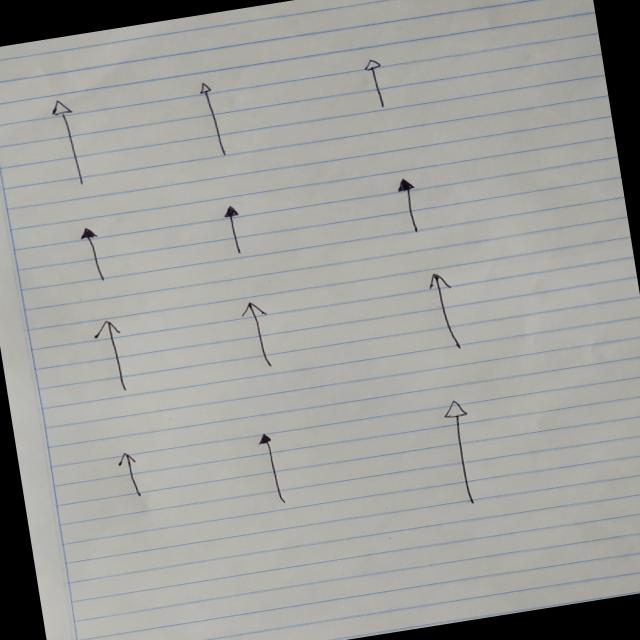arrow_line_up: (416, 38, 475, 156), (242, 40, 302, 156), (114, 371, 172, 478), (471, 330, 525, 440), (312, 498, 360, 608), (294, 354, 340, 464), (149, 522, 192, 636), (267, 202, 311, 310), (78, 60, 124, 156), (104, 216, 148, 315), (438, 182, 482, 281), (508, 478, 546, 576)
